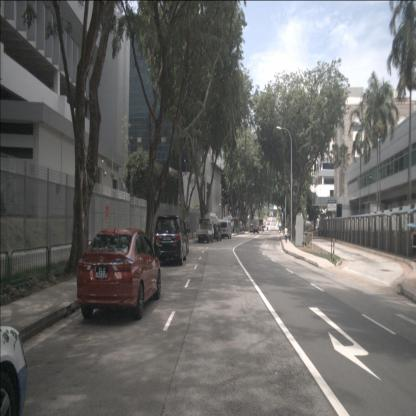human-pedestrian-adult: (406, 222, 416, 262), (284, 226, 288, 243), (288, 228, 292, 243)
vehicle-car: (77, 228, 161, 320), (0, 274, 29, 415), (154, 216, 188, 266), (168, 219, 191, 256), (220, 222, 232, 239), (210, 224, 221, 241), (253, 226, 259, 234), (249, 224, 254, 233)
vehicle-truck: (196, 218, 214, 244)
